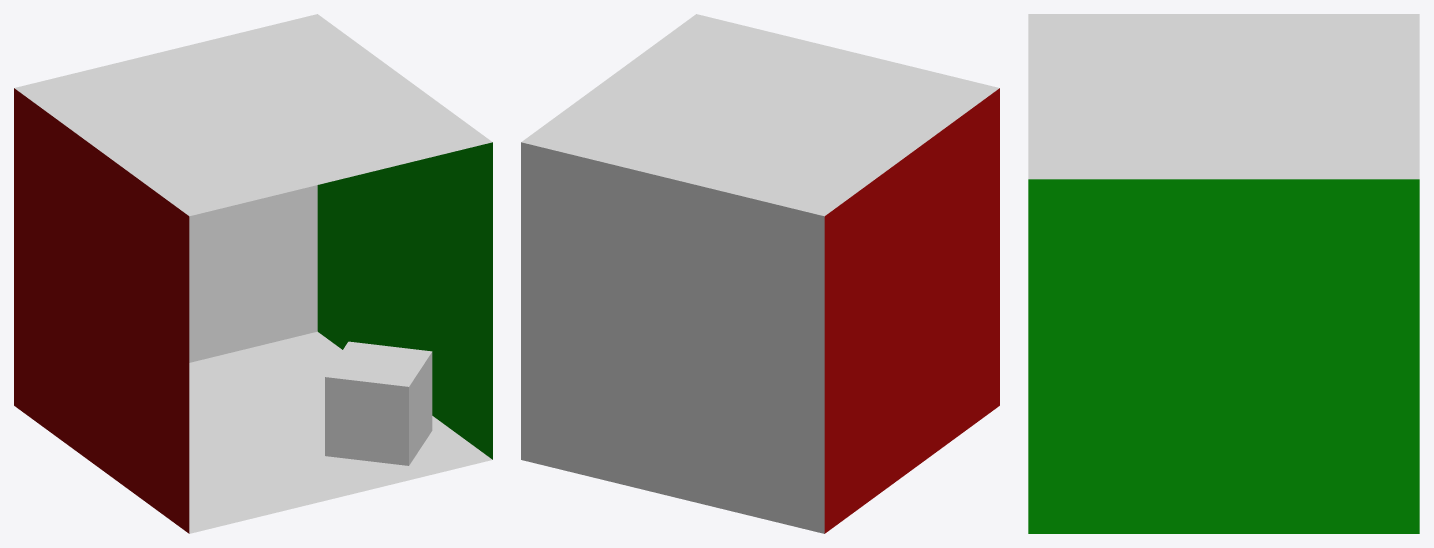
The model's file is cornellbox_mirror.glb.
3 renders of one model, left to right at view 1: azimuth 30°, elevation 25°; view 2: azimuth 150°, elevation 25°; view 3: azimuth 270°, elevation 25°, orthographic. The views are drawn at different scales.
Parts seen in each view (by area): view 1: Red Wall, Ceiling, Green Wall, Floor, Back Wall, Small Cube; view 2: Back Wall, Red Wall, Ceiling; view 3: Green Wall, Ceiling.
Part boxes in pixels (bbox=[...]): Red Wall: bbox=[14, 88, 189, 533]; Ceiling: bbox=[14, 14, 492, 216]; Green Wall: bbox=[317, 142, 492, 459]; Floor: bbox=[189, 331, 492, 533]; Back Wall: bbox=[189, 185, 317, 362]; Small Cube: bbox=[325, 341, 432, 465]; Back Wall: bbox=[521, 142, 824, 533]; Red Wall: bbox=[824, 88, 999, 533]; Ceiling: bbox=[521, 14, 999, 216]; Green Wall: bbox=[1028, 179, 1419, 533]; Ceiling: bbox=[1028, 14, 1419, 179].
Bounding box in the file's own units: 10 × 10 × 10.
